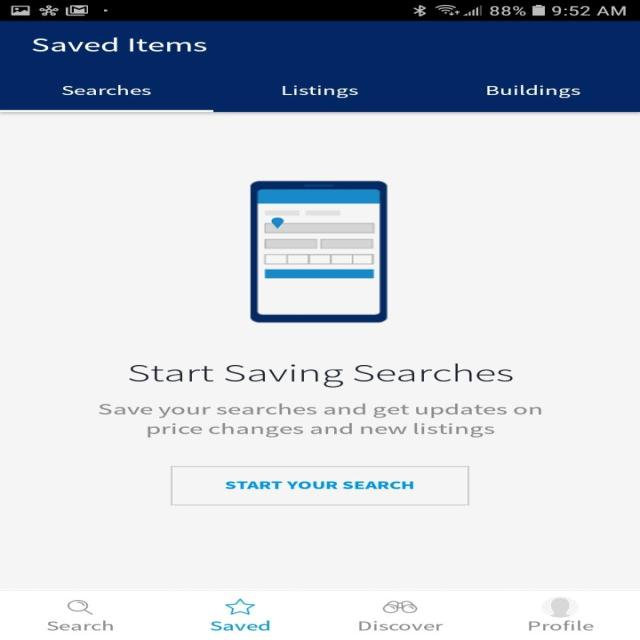Icon: (540, 596, 578, 618), (224, 598, 255, 614), (66, 599, 94, 615)
Image: (250, 180, 388, 323), (381, 600, 417, 613)
Text: (98, 402, 542, 438), (128, 363, 513, 387), (32, 37, 206, 52), (486, 85, 580, 98), (62, 84, 151, 96), (282, 85, 358, 98), (358, 620, 443, 630), (46, 620, 114, 630), (527, 620, 593, 630), (210, 620, 270, 630)
TextButton: (170, 466, 470, 506)
